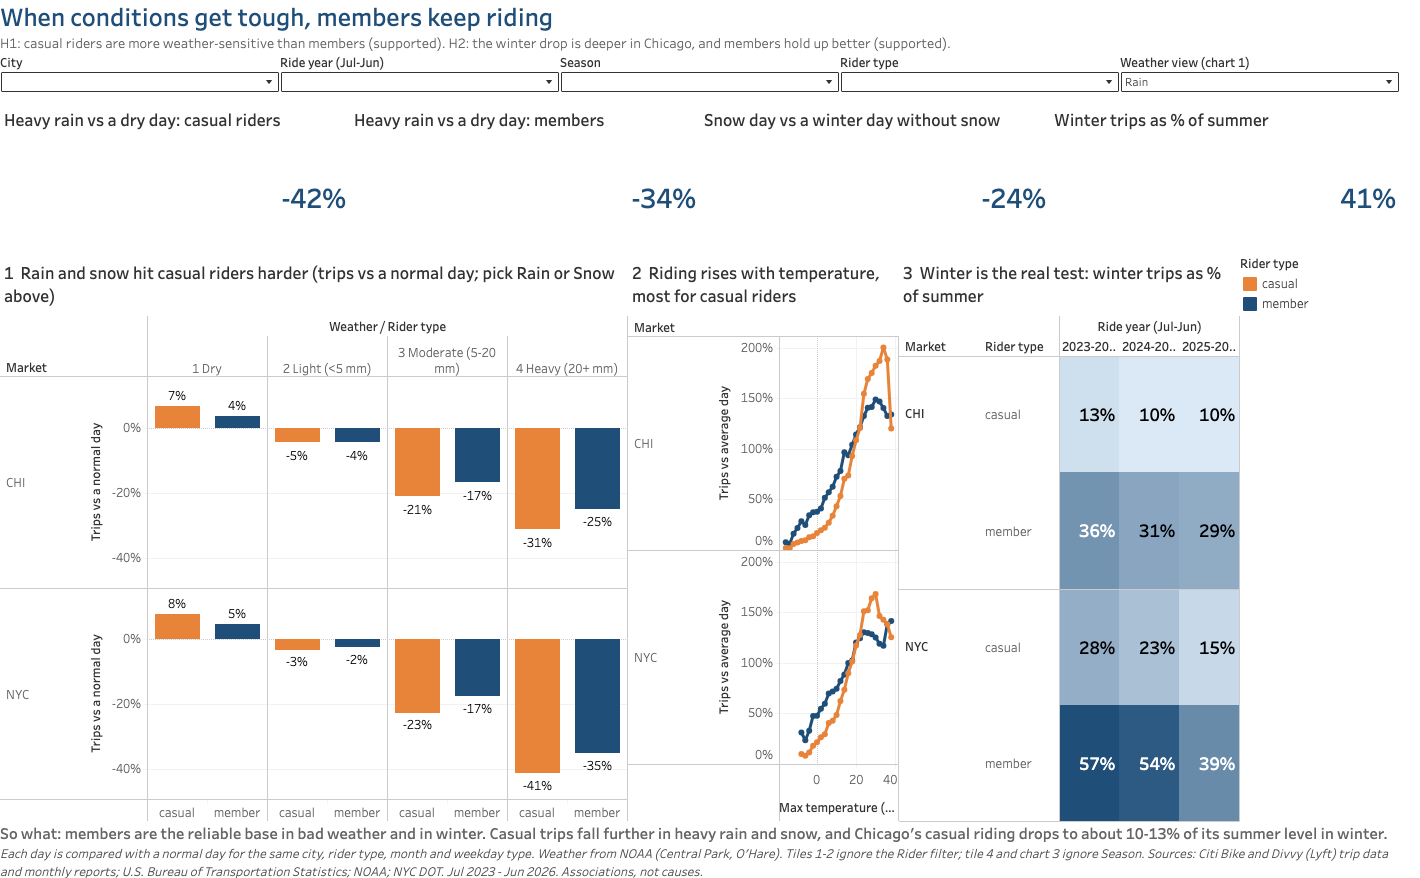

The page's visual inventory and layout, read from the dashboard file:
{"tool":"tableau","page":{"name":"3 Weather","canvas":[1400,880],"ordinal":2},"visuals":[{"type":"text","box":[0,0,1400,55.6]},{"type":"parameter","param":"[Parameters].[P_City]","box":[0,55.6,280,46.3]},{"type":"parameter","param":"[Parameters].[P_Year]","box":[280,55.6,280,46.3]},{"type":"parameter","param":"[Parameters].[P_Season]","box":[560,55.6,280,46.3]},{"type":"parameter","param":"[Parameters].[P_Rider]","box":[840,55.6,280,46.3]},{"type":"parameter","param":"[Parameters].[P_Weather]","box":[1120,55.6,280,46.3]},{"type":"worksheet","title":"T3 rain casual","mark":"Text","box":[0,101.9,350,83.4]},{"type":"worksheet","title":"T3 rain member","mark":"Text","box":[350,101.9,350,83.4]},{"type":"worksheet","title":"T3 snow","mark":"Text","box":[700,101.9,350,83.4]},{"type":"worksheet","title":"T3 winter","mark":"Text","box":[1050,101.9,350,83.4]},{"type":"worksheet","title":"W2 condition","mark":"Bar","rows":["city_id","vs_normal"],"cols":["weather_condition","rider_type"],"box":[0,185.2,427,611.4]},{"type":"worksheet","title":"W3 temperature","mark":"Line","rows":["city_id","temp_index"],"cols":["temp_step"],"box":[427,185.2,427,611.4]},{"type":"worksheet","title":"W4 winter","mark":"Square","rows":["city_id","rider_type"],"cols":["ride_year"],"box":[854,185.2,427,611.4]},{"type":"legend","title":"W2 condition","param":"[federated.fbedf4c5428e40d0b2d700440ef2].[none:rider_type:nk]","box":[1281,185.2,119,611.4]},{"type":"text","box":[0,796.6,1400,83.4]}]}

Visuals, with their boxes in screenshot pixels (x1, y1, x2, y2), scaled from the page's 1400x880 canvas onto the 1420x878 screenshot:
text: locate(0, 0, 1419, 55)
parameter: locate(0, 55, 284, 102)
parameter: locate(284, 55, 568, 102)
parameter: locate(568, 55, 852, 102)
parameter: locate(852, 55, 1136, 102)
parameter: locate(1136, 55, 1419, 102)
"T3 rain casual" worksheet (Text marks): locate(0, 102, 355, 185)
"T3 rain member" worksheet (Text marks): locate(355, 102, 710, 185)
"T3 snow" worksheet (Text marks): locate(710, 102, 1065, 185)
"T3 winter" worksheet (Text marks): locate(1065, 102, 1419, 185)
"W2 condition" worksheet (Bar marks): locate(0, 185, 433, 795)
"W3 temperature" worksheet (Line marks): locate(433, 185, 866, 795)
"W4 winter" worksheet (Square marks): locate(866, 185, 1299, 795)
"W2 condition" legend: locate(1299, 185, 1419, 795)
text: locate(0, 795, 1419, 877)
